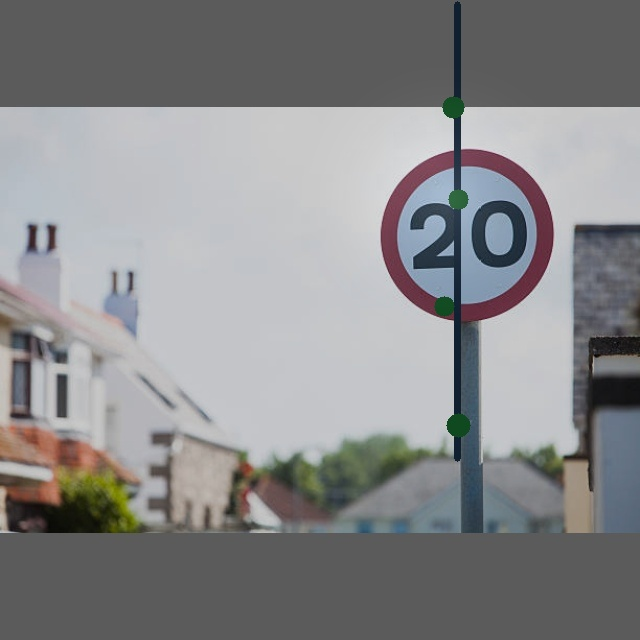Speed_Limit_20: (384, 152, 549, 320)
